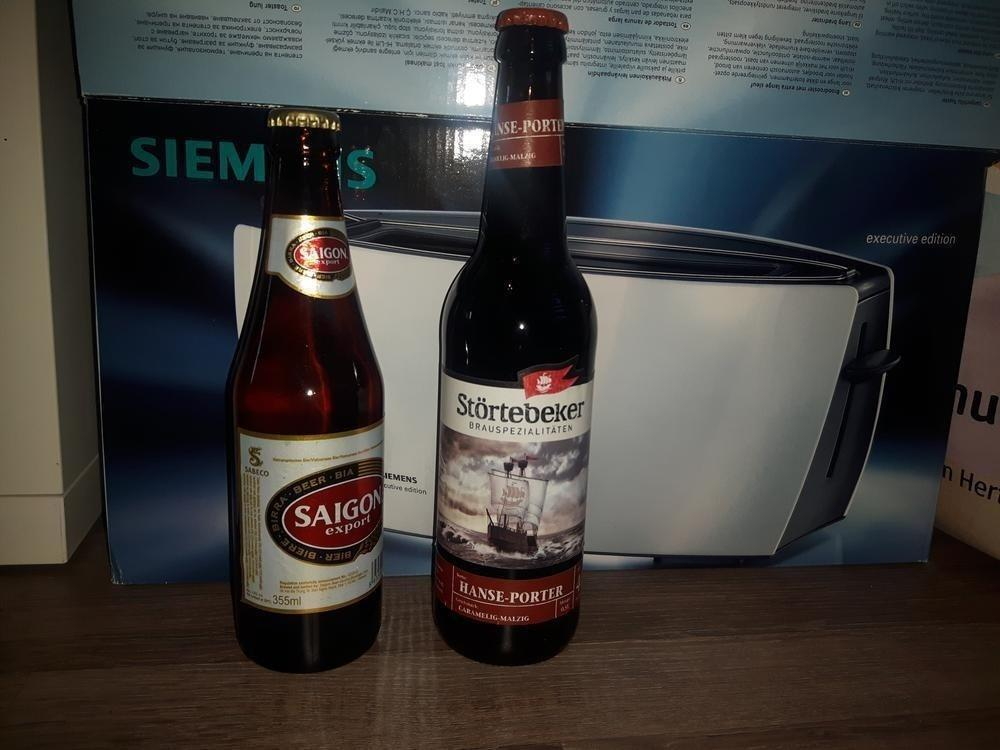bottle-glass: (434, 4, 596, 668), (224, 105, 386, 675)
